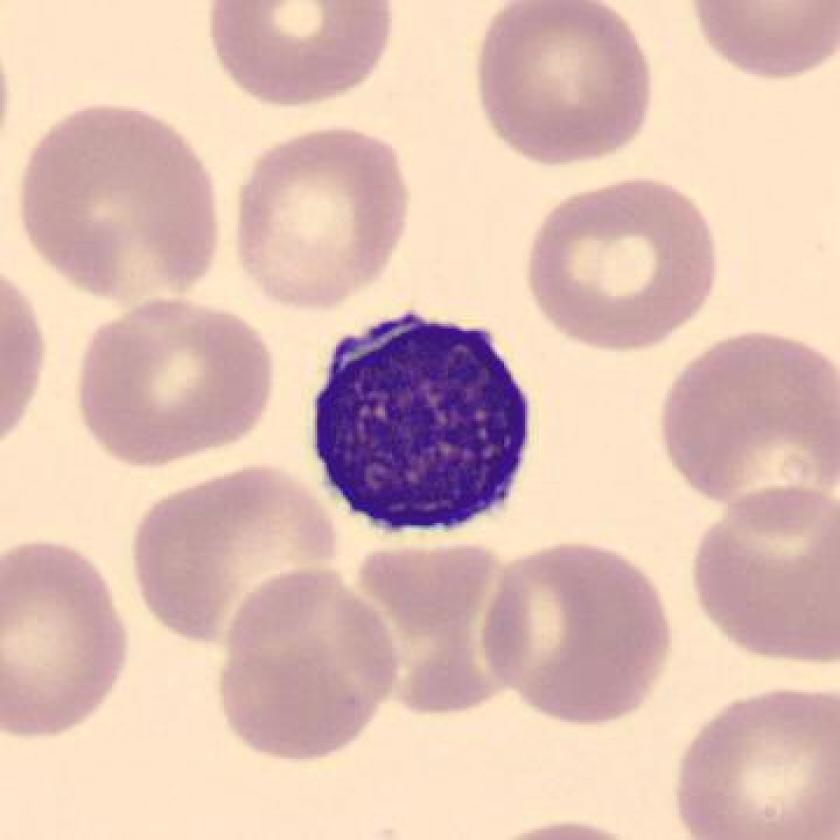lymphocyte: (295, 295, 549, 549)
